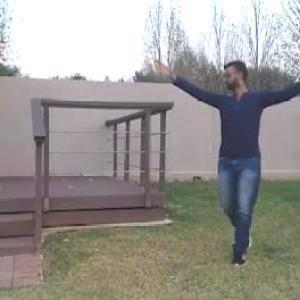takeoff: (154, 60, 299, 264)
